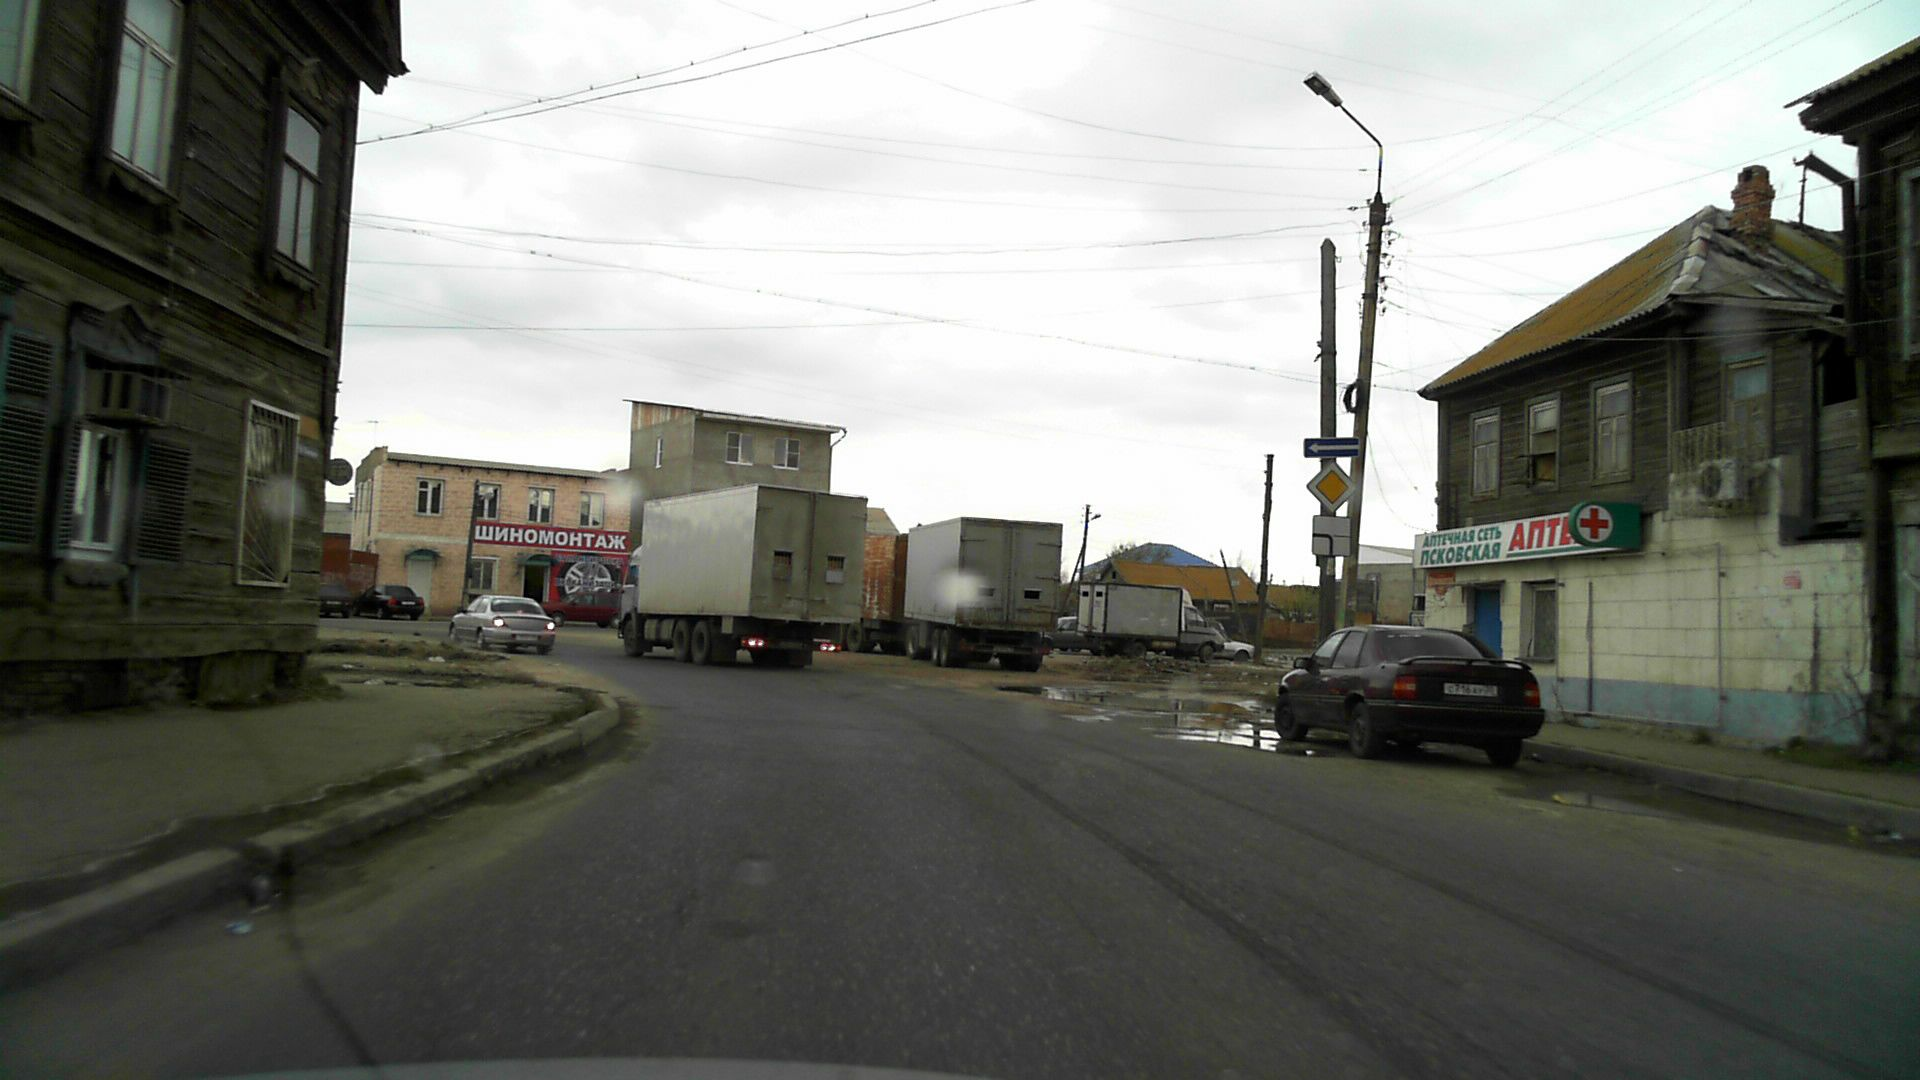One-Way Traffic: (1304, 436, 1360, 458)
